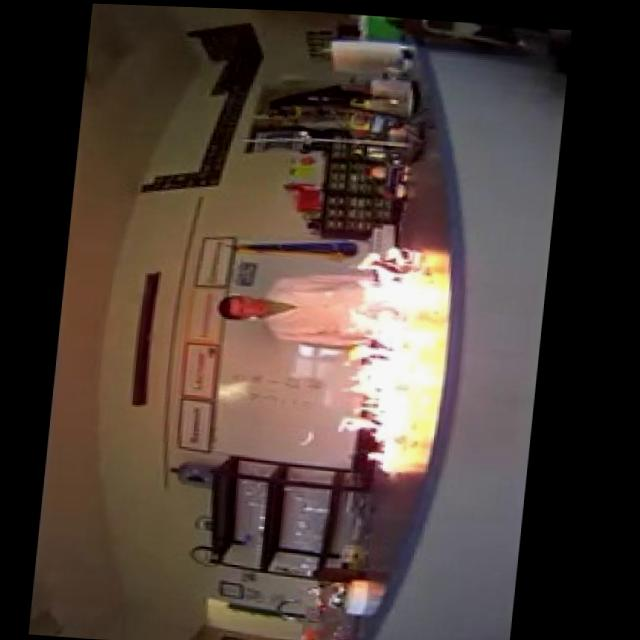helmet: (328, 237, 444, 474)
